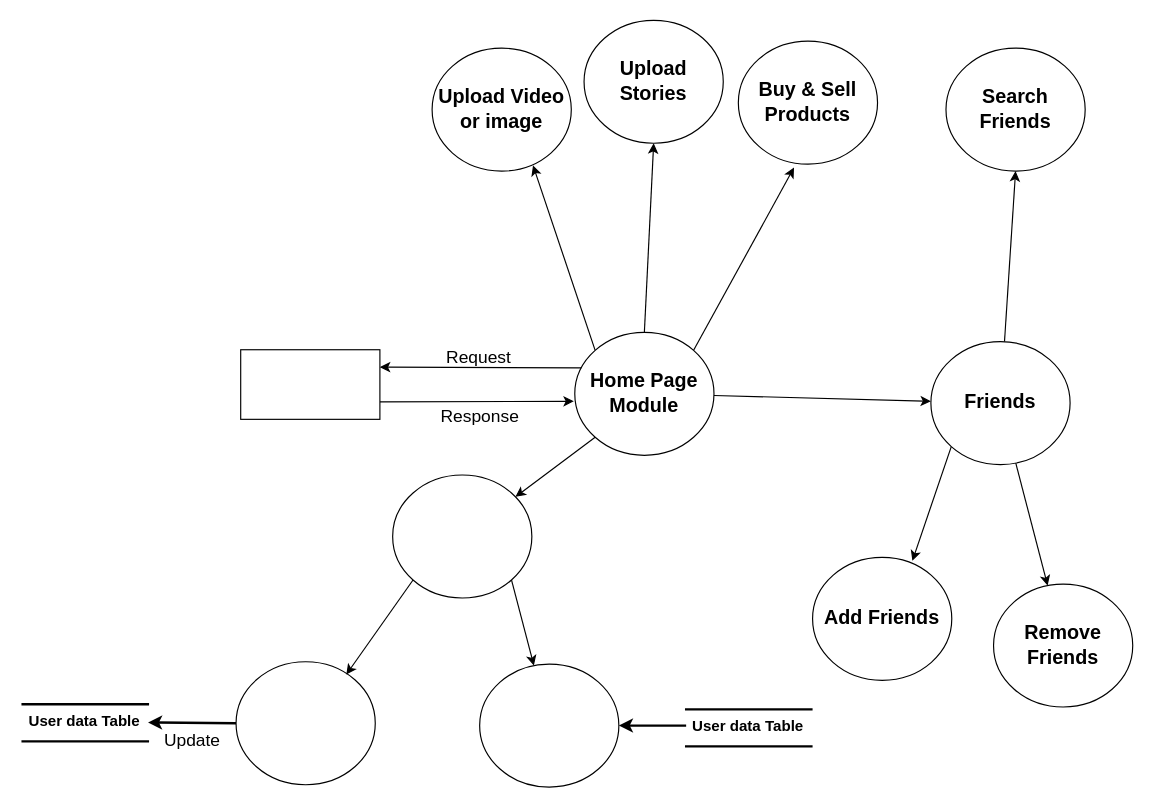
Image size: 1153x807. Some labels were removed from this diagram. The shapes that lost their labels are listed below. From the top down, each one's box as (x1, y1, x2, y2) in pixels, then its label:
(240, 349, 380, 419): User
(392, 474, 532, 598): Profile
(235, 661, 375, 785): Edit Profile
(478, 663, 619, 787): View Profile
